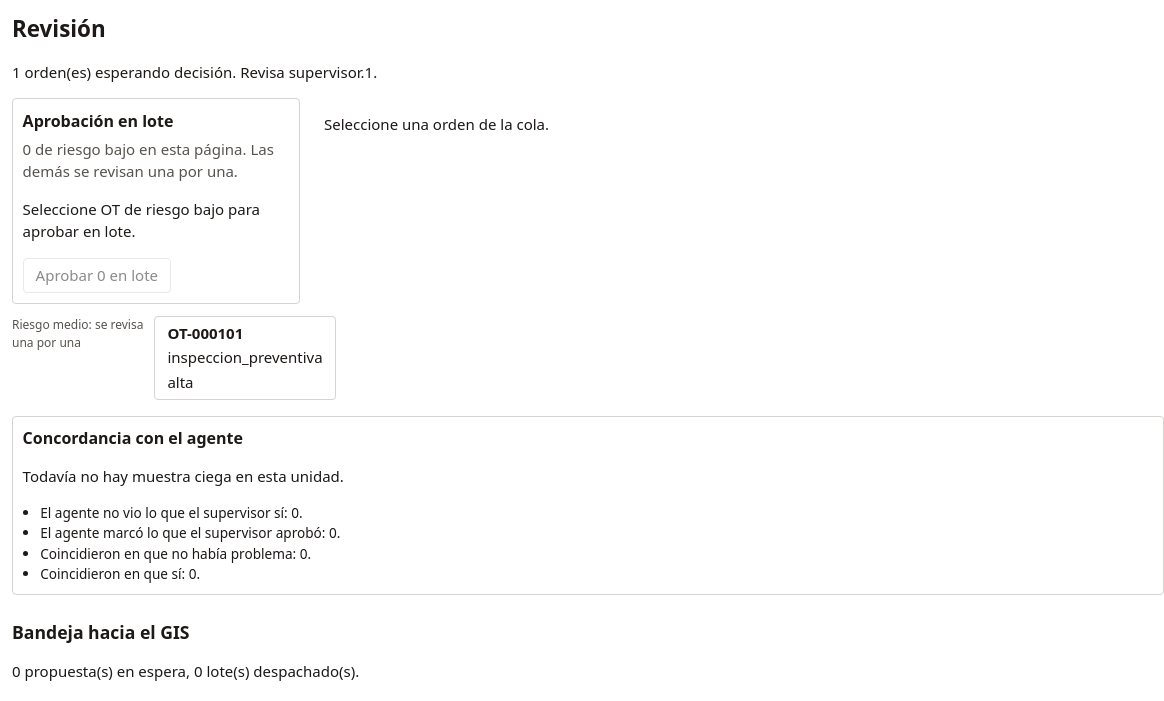
Test: los hallazgos normativos › un límite sin verificar NO se presenta como cita del texto oficial
The image size is (1164, 701).
Click the button "OT-000101 inspeccion_preventiva alta": (245, 358) x1=154 y1=316 x2=336 y2=400
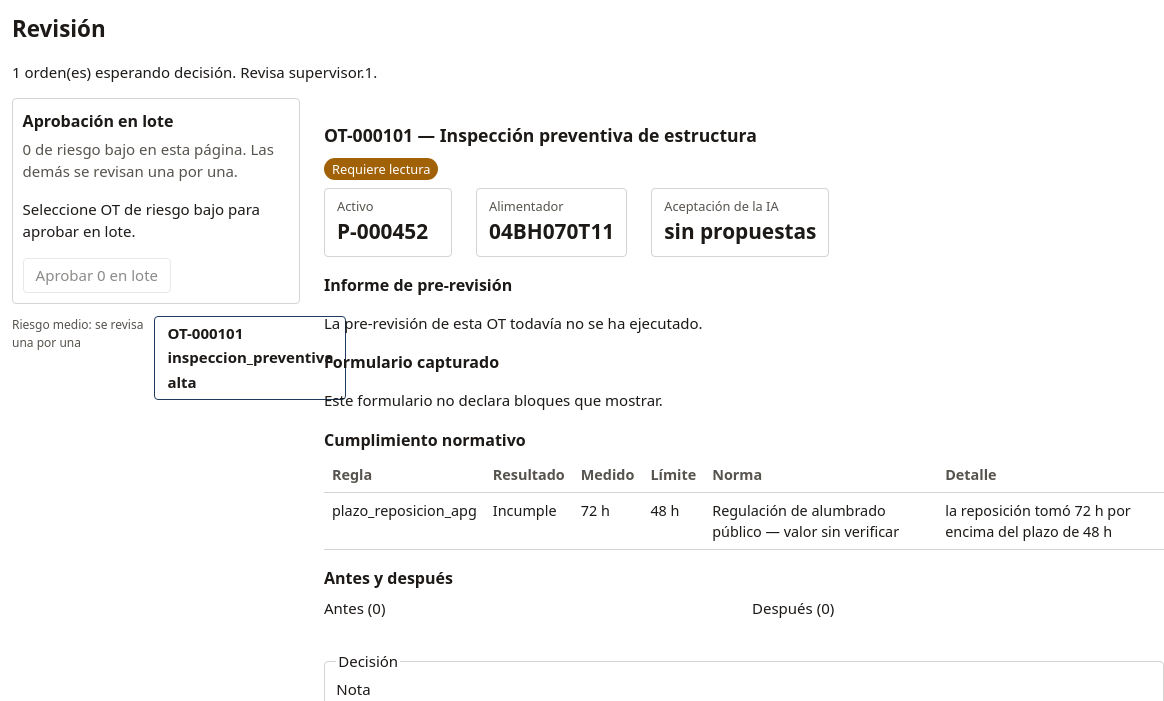
Now the text "Regulación de alumbrado público — valor sin verificar" is shown, box x1=704 y1=493 x2=937 y2=550
